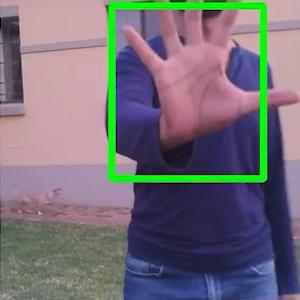follow_hand: (118, 1, 299, 147)
